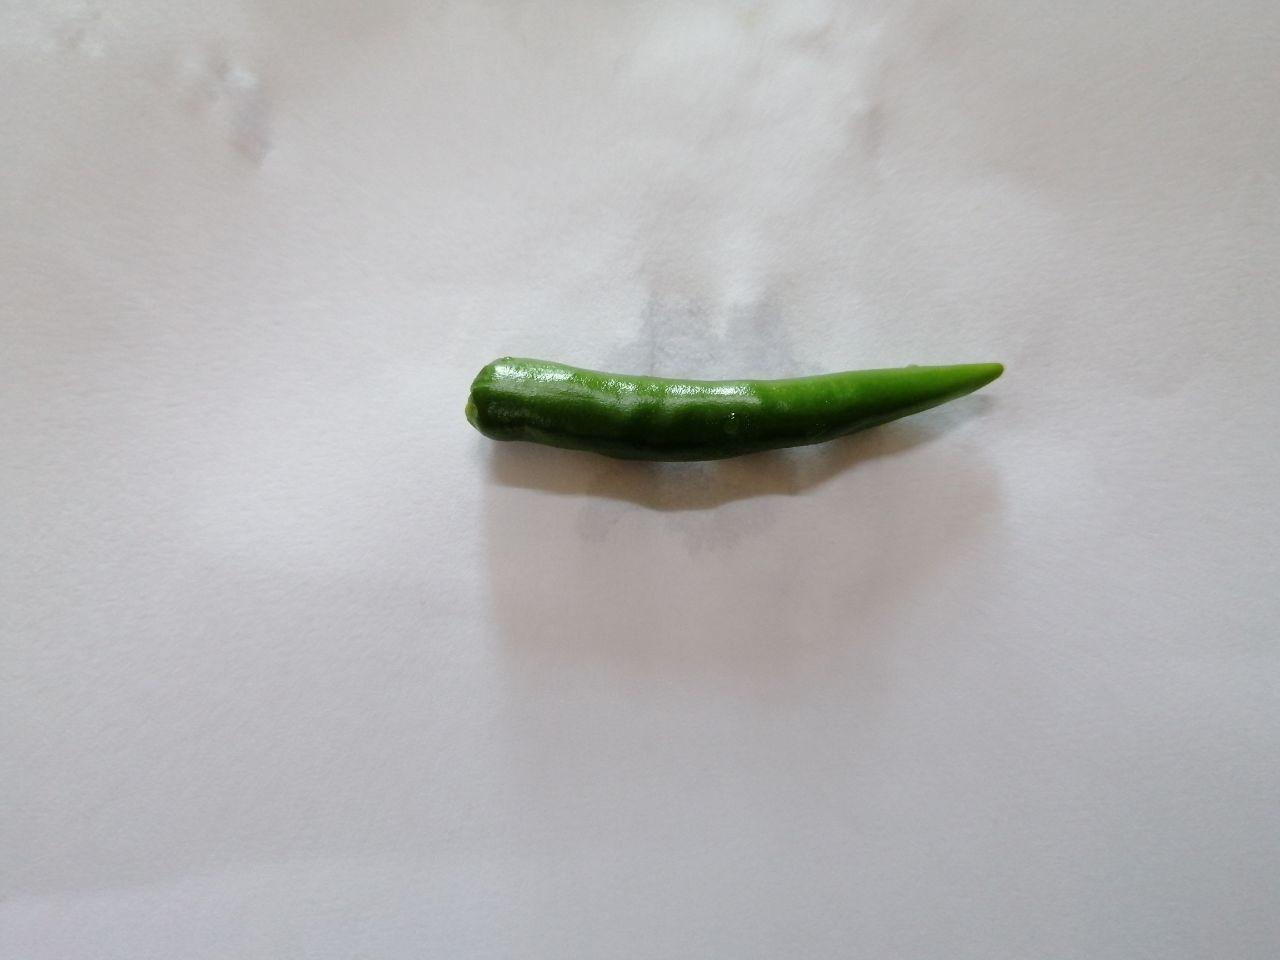lada hijau: (440, 314, 1035, 489)
